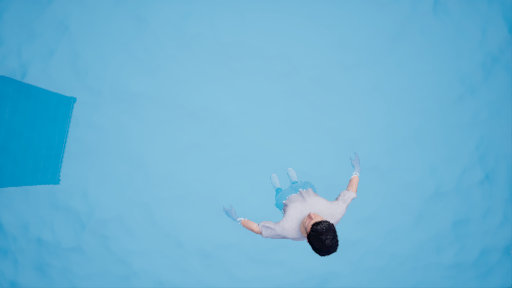person: (231, 159, 368, 256)
